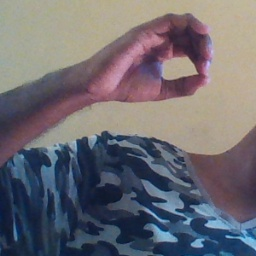O: (91, 9, 216, 111)
